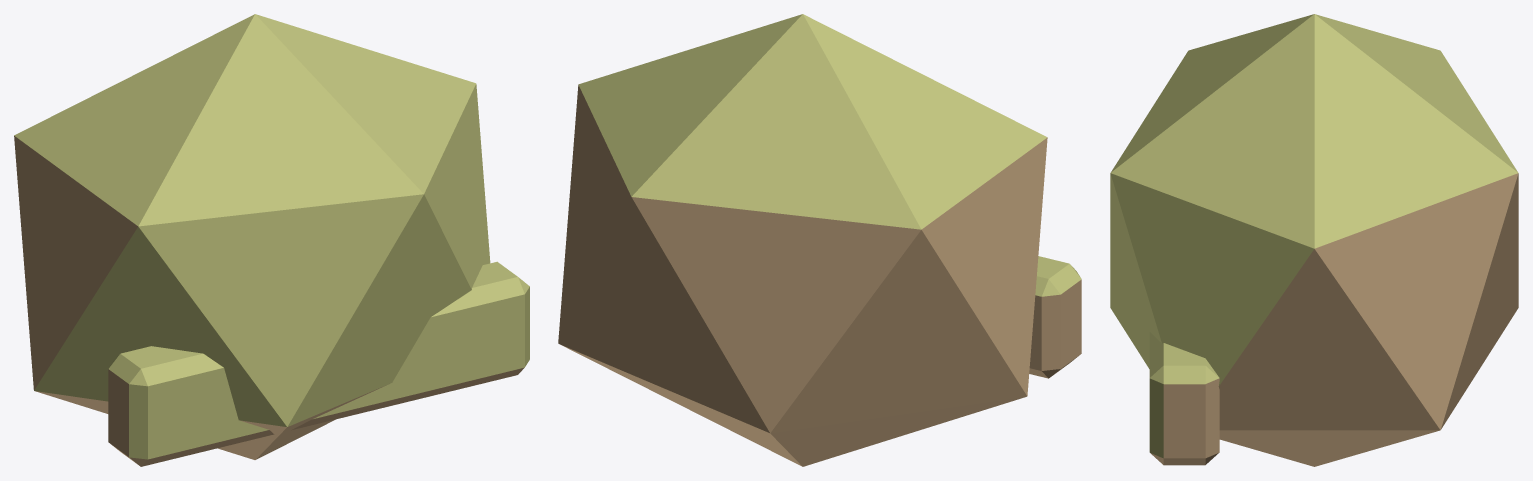
The model's file is npc_module_pauldron_v01.glb.
3 renders of one model, left to right at view 1: azimuth 30°, elevation 25°; view 2: azimuth 150°, elevation 25°; view 3: azimuth 270°, elevation 25°, orthographic.
Visible parts, largest first — view 1: GEO_npc_module_pauldron_v01; view 2: GEO_npc_module_pauldron_v01; view 3: GEO_npc_module_pauldron_v01.
Boxes of the visible parts, box(x1,y1,x2,y2) form: GEO_npc_module_pauldron_v01: box(14, 14, 529, 466); GEO_npc_module_pauldron_v01: box(558, 14, 1081, 466); GEO_npc_module_pauldron_v01: box(1110, 14, 1518, 466).
Bounding box in the file's own units: 1.04 × 1 × 0.8166.
